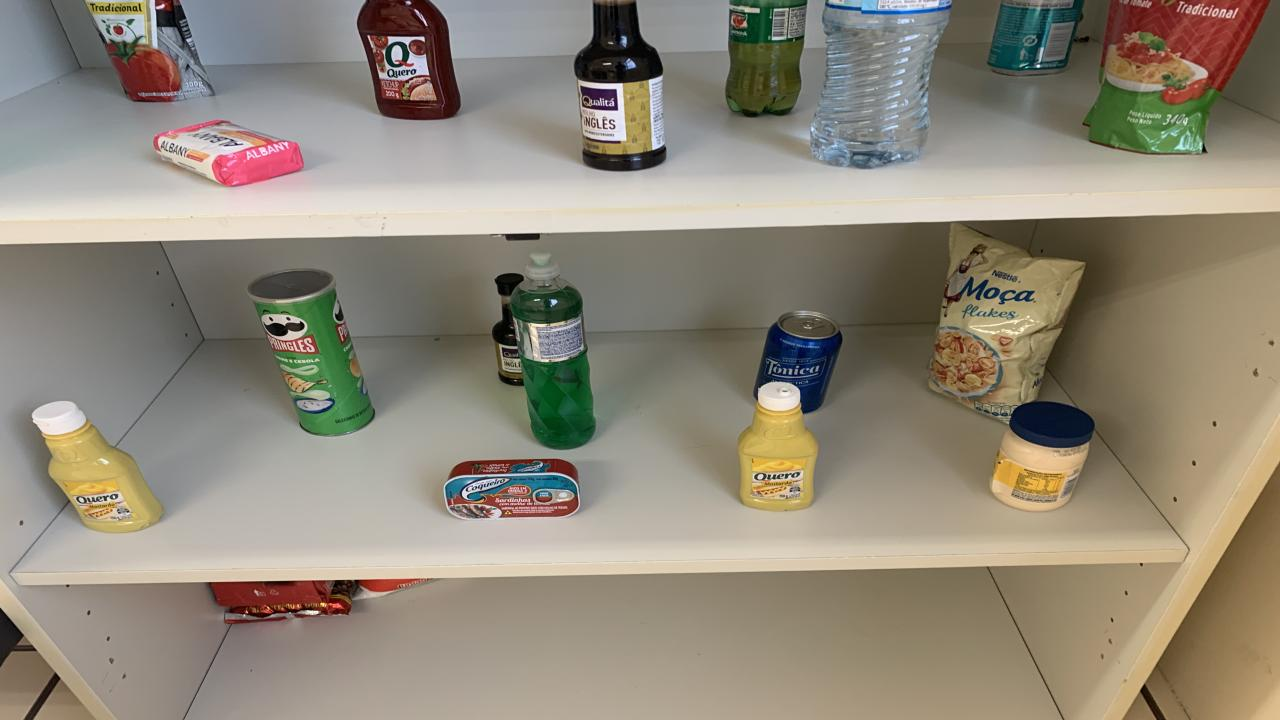Detergent-Cleanup_Items: (510, 251, 595, 448)
English_Sauce-Pantry_Items: (575, 0, 665, 171), (492, 272, 522, 386)
Flakes-Snacks: (928, 223, 1085, 422)
Guarana-Drinks: (725, 0, 808, 116)
Ketchup-Pantry_Items: (358, 0, 460, 120)
Mayonnaise-Pantry_Items: (990, 401, 1095, 512)
Mustard-Pantry_Items: (32, 401, 162, 532), (738, 382, 818, 510)
Pringles-Snacks: (248, 270, 375, 435)
Soap-Cleanup_Items: (152, 120, 302, 186)
Tea-Drinks: (988, 0, 1082, 75)
Tomato_Sauce-Pantry_Items: (1085, 0, 1268, 154), (85, 0, 212, 101)
Tonic-Drinks: (755, 311, 842, 412)
Tuna_Can-Pantry_Items: (442, 459, 580, 519)
Water_Bottle-Drinks: (810, 0, 950, 169)
